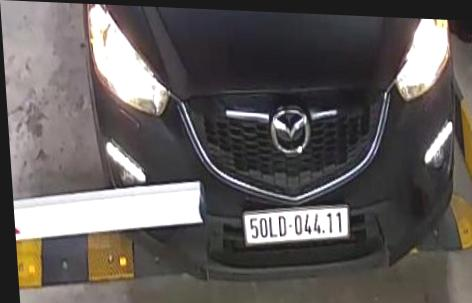License_Plate: (239, 199, 354, 250)
